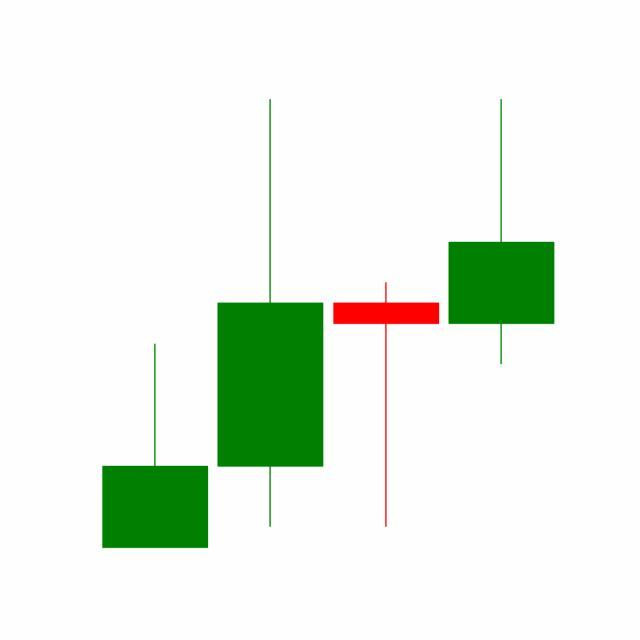Dragonfly Doji: (329, 280, 445, 530)
